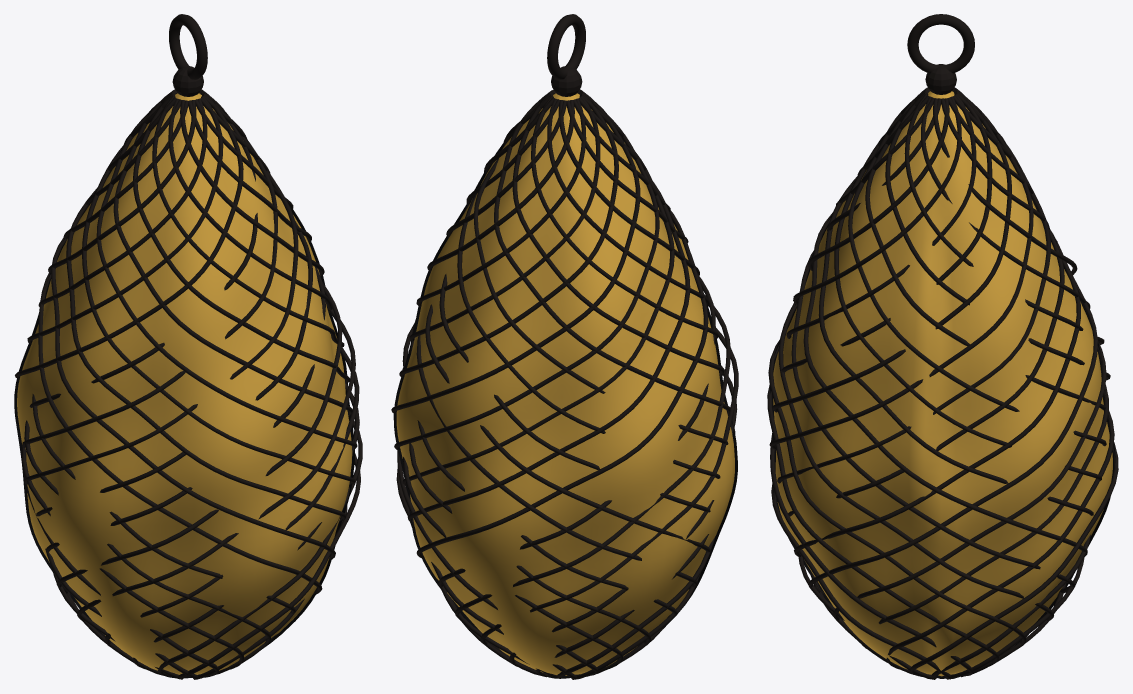
The model's file is heunetz-voll.glb.
The picture shows the model from 3 angles, left to right: view 1: azimuth 30°, elevation 25°; view 2: azimuth 150°, elevation 25°; view 3: azimuth 270°, elevation 25°; orthographic projection.
Parts seen in each view (by area): view 1: heu_koerper, netz, schlaufe, knoten; view 2: heu_koerper, netz, schlaufe, knoten; view 3: heu_koerper, netz, schlaufe, knoten.
Part boxes in pixels (x1=…): heu_koerper: x1=14, y1=93, x2=354, y2=678; netz: x1=15, y1=89, x2=362, y2=679; schlaufe: x1=169, y1=14, x2=207, y2=79; knoten: x1=172, y1=66, x2=203, y2=96; heu_koerper: x1=393, y1=93, x2=737, y2=678; netz: x1=391, y1=89, x2=738, y2=679; schlaufe: x1=547, y1=14, x2=585, y2=79; knoten: x1=551, y1=66, x2=582, y2=96; heu_koerper: x1=769, y1=91, x2=1115, y2=678; netz: x1=767, y1=87, x2=1118, y2=679; schlaufe: x1=907, y1=14, x2=974, y2=73; knoten: x1=925, y1=64, x2=956, y2=94.
Bounding box in the file's own units: 62.2 × 128 × 62.15.
